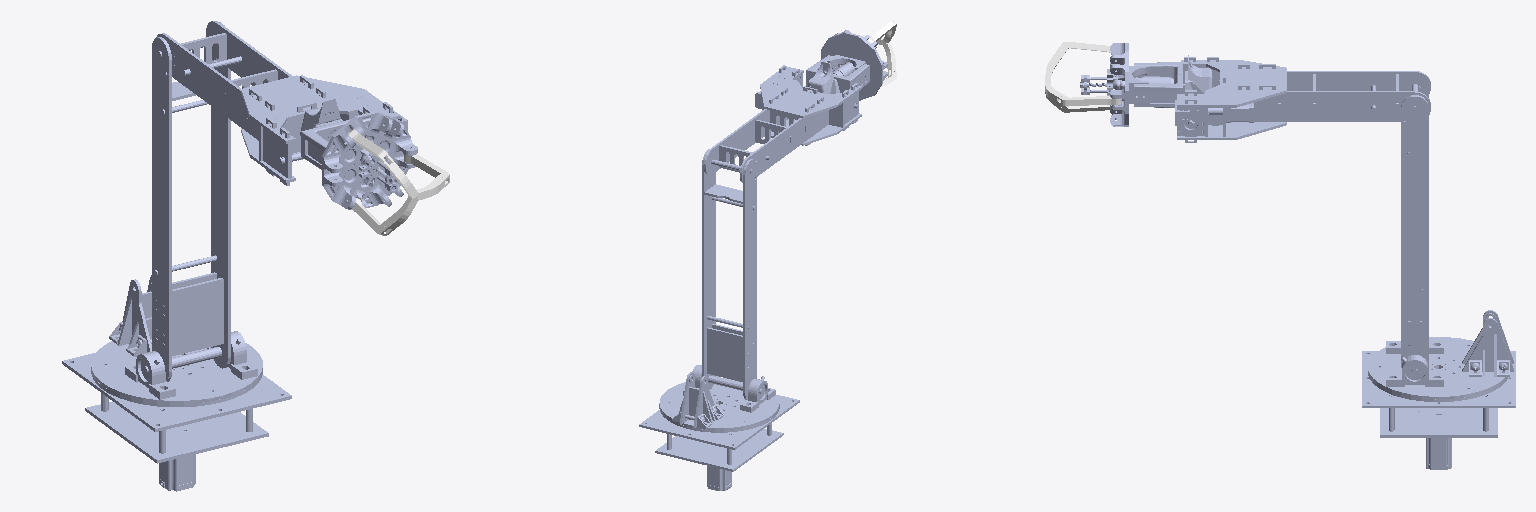
The robot description file, URDF, robot "arm_assembly":
<?xml version="1.0" encoding="utf-8"?>
<!-- This URDF was automatically created by SolidWorks to URDF Exporter! Originally created by [author] ([email redacted]) 
     Commit Version: 1.6.0-1-g15f4949  Build Version: 1.6.7594.29634
     For more information, please see http://wiki.ros.org/sw_urdf_exporter -->
<robot
  name="arm_assembly">
  <link
    name="arm_link0">
    <inertial>
      <origin
        xyz="0.014023 -0.26919 0.41045"
        rpy="0 0 0" />
      <mass
        value="8.6759" />
      <inertia
        ixx="1.9156"
        ixy="0.023298"
        ixz="-0.042689"
        iyy="1.2477"
        iyz="0.84122"
        izz="0.71914" />
    </inertial>
    <visual>
      <origin
        xyz="0 0 0"
        rpy="0 0 0" />
      <geometry>
        <mesh
          filename="package://arm_assembly/meshes/arm_link0.STL" />
      </geometry>
      <material
        name="">
        <color
          rgba="0.79216 0.81961 0.93333 1" />
      </material>
    </visual>
    <collision>
      <origin
        xyz="0 0 0"
        rpy="0 0 0" />
      <geometry>
        <mesh
          filename="package://arm_assembly/meshes/arm_link0.STL" />
      </geometry>
    </collision>
  </link>
  <link
    name="arm_link1">
    <inertial>
      <origin
        xyz="0.014023 -0.26919 0.3139"
        rpy="0 0 0" />
      <mass
        value="8.6759" />
      <inertia
        ixx="1.9156"
        ixy="0.023298"
        ixz="-0.042689"
        iyy="1.2477"
        iyz="0.84122"
        izz="0.71914" />
    </inertial>
    <visual>
      <origin
        xyz="0 0 0"
        rpy="0 0 0" />
      <geometry>
        <mesh
          filename="package://arm_assembly/meshes/arm_link1.STL" />
      </geometry>
      <material
        name="">
        <color
          rgba="0.79216 0.81961 0.93333 1" />
      </material>
    </visual>
    <collision>
      <origin
        xyz="0 0 0"
        rpy="0 0 0" />
      <geometry>
        <mesh
          filename="package://arm_assembly/meshes/arm_link1.STL" />
      </geometry>
    </collision>
  </link>
  <joint
    name="arm_link1_joint"
    type="revolute">
    <origin
      xyz="0 0 0.09655"
      rpy="0 0 0" />
    <parent
      link="arm_link0" />
    <child
      link="arm_link1" />
    <axis
      xyz="0 0 1" />
    <limit
      lower="0"
      upper="0"
      effort="0"
      velocity="0" />
  </joint>
  <link
    name="arm_link2">
    <inertial>
      <origin
        xyz="0.014019 -0.21814 0.2687"
        rpy="0 0 0" />
      <mass
        value="8.6759" />
      <inertia
        ixx="1.9156"
        ixy="0.023298"
        ixz="-0.042689"
        iyy="1.2477"
        iyz="0.84122"
        izz="0.71914" />
    </inertial>
    <visual>
      <origin
        xyz="0 0 0"
        rpy="0 0 0" />
      <geometry>
        <mesh
          filename="package://arm_assembly/meshes/arm_link2.STL" />
      </geometry>
      <material
        name="">
        <color
          rgba="0.79216 0.81961 0.93333 1" />
      </material>
    </visual>
    <collision>
      <origin
        xyz="0 0 0"
        rpy="0 0 0" />
      <geometry>
        <mesh
          filename="package://arm_assembly/meshes/arm_link2.STL" />
      </geometry>
    </collision>
  </link>
  <joint
    name="arm_link2_joint"
    type="revolute">
    <origin
      xyz="0 -0.051052 0.0452"
      rpy="0 0 0" />
    <parent
      link="arm_link1" />
    <child
      link="arm_link2" />
    <axis
      xyz="1 0 0" />
    <limit
      lower="0"
      upper="0"
      effort="0"
      velocity="0" />
  </joint>
  <link
    name="arm_link3">
    <inertial>
      <origin
        xyz="0.014019 -0.21814 -0.3409"
        rpy="0 0 0" />
      <mass
        value="8.6759" />
      <inertia
        ixx="1.9156"
        ixy="0.023298"
        ixz="-0.042689"
        iyy="1.2477"
        iyz="0.84122"
        izz="0.71914" />
    </inertial>
    <visual>
      <origin
        xyz="0 0 0"
        rpy="0 0 0" />
      <geometry>
        <mesh
          filename="package://arm_assembly/meshes/arm_link3.STL" />
      </geometry>
      <material
        name="">
        <color
          rgba="0.79216 0.81961 0.93333 1" />
      </material>
    </visual>
    <collision>
      <origin
        xyz="0 0 0"
        rpy="0 0 0" />
      <geometry>
        <mesh
          filename="package://arm_assembly/meshes/arm_link3.STL" />
      </geometry>
    </collision>
  </link>
  <joint
    name="arm_link3_joint"
    type="revolute">
    <origin
      xyz="0 0 0.6096"
      rpy="0 0 0" />
    <parent
      link="arm_link2" />
    <child
      link="arm_link3" />
    <axis
      xyz="-1 0 0" />
    <limit
      lower="0"
      upper="0"
      effort="0"
      velocity="0" />
  </joint>
  <link
    name="arm_link4">
    <inertial>
      <origin
        xyz="-0.066717 0.26409 -0.33487"
        rpy="0 0 0" />
      <mass
        value="8.6759" />
      <inertia
        ixx="1.9156"
        ixy="0.023298"
        ixz="-0.042689"
        iyy="1.2477"
        iyz="0.84122"
        izz="0.71914" />
    </inertial>
    <visual>
      <origin
        xyz="0 0 0"
        rpy="0 0 0" />
      <geometry>
        <mesh
          filename="package://arm_assembly/meshes/arm_link4.STL" />
      </geometry>
      <material
        name="">
        <color
          rgba="0.79216 0.81961 0.93333 1" />
      </material>
    </visual>
    <collision>
      <origin
        xyz="0 0 0"
        rpy="0 0 0" />
      <geometry>
        <mesh
          filename="package://arm_assembly/meshes/arm_link4.STL" />
      </geometry>
    </collision>
  </link>
  <joint
    name="arm_link4_joint"
    type="revolute">
    <origin
      xyz="0.080736 -0.48223 -0.00603"
      rpy="0 0 0" />
    <parent
      link="arm_link3" />
    <child
      link="arm_link4" />
    <axis
      xyz="1 0 0" />
    <limit
      lower="0"
      upper="0"
      effort="0"
      velocity="0" />
  </joint>
  <link
    name="arm_link5">
    <inertial>
      <origin
        xyz="0.014303 0.28637 -0.36813"
        rpy="0 0 0" />
      <mass
        value="8.6759" />
      <inertia
        ixx="1.9156"
        ixy="0.023298"
        ixz="-0.042689"
        iyy="1.2477"
        iyz="0.84122"
        izz="0.71914" />
    </inertial>
    <visual>
      <origin
        xyz="0 0 0"
        rpy="0 0 0" />
      <geometry>
        <mesh
          filename="package://arm_assembly/meshes/arm_link5.STL" />
      </geometry>
      <material
        name="">
        <color
          rgba="0.79216 0.81961 0.93333 1" />
      </material>
    </visual>
    <collision>
      <origin
        xyz="0 0 0"
        rpy="0 0 0" />
      <geometry>
        <mesh
          filename="package://arm_assembly/meshes/arm_link5.STL" />
      </geometry>
    </collision>
  </link>
  <joint
    name="arm_link5_joint"
    type="revolute">
    <origin
      xyz="-0.08102 -0.02228 0.03326"
      rpy="0 0 0" />
    <parent
      link="arm_link4" />
    <child
      link="arm_link5" />
    <axis
      xyz="0 -1 0" />
    <limit
      lower="0"
      upper="0"
      effort="0"
      velocity="0" />
  </joint>
  <link
    name="gripper_finger1">
    <inertial>
      <origin
        xyz="-0.011165 -0.085231 3.153E-14"
        rpy="0 0 0" />
      <mass
        value="0.020758" />
      <inertia
        ixx="5.6257E-05"
        ixy="-1.6742E-05"
        ixz="6.5594E-20"
        iyy="1.1909E-05"
        iyz="1.3762E-19"
        izz="6.7392E-05" />
    </inertial>
    <visual>
      <origin
        xyz="0 0 0"
        rpy="0 0 0" />
      <geometry>
        <mesh
          filename="package://arm_assembly/meshes/gripper_finger1.STL" />
      </geometry>
      <material
        name="">
        <color
          rgba="1 1 1 1" />
      </material>
    </visual>
    <collision>
      <origin
        xyz="0 0 0"
        rpy="0 0 0" />
      <geometry>
        <mesh
          filename="package://arm_assembly/meshes/gripper_finger1.STL" />
      </geometry>
    </collision>
  </link>
  <joint
    name="gripper_finger1_joint"
    type="revolute">
    <origin
      xyz="0.0762 -0.13859 0"
      rpy="0 0 0" />
    <parent
      link="arm_link5" />
    <child
      link="gripper_finger1" />
    <axis
      xyz="0 0 -1" />
    <limit
      lower="0"
      upper="0"
      effort="0"
      velocity="0" />
  </joint>
  <link
    name="gripper_finger2">
    <inertial>
      <origin
        xyz="-0.011165 -0.085231 3.0531E-16"
        rpy="0 0 0" />
      <mass
        value="0.020758" />
      <inertia
        ixx="5.6257E-05"
        ixy="-1.6742E-05"
        ixz="-3.3881E-21"
        iyy="1.1909E-05"
        iyz="1.0554E-20"
        izz="6.7392E-05" />
    </inertial>
    <visual>
      <origin
        xyz="0 0 0"
        rpy="0 0 0" />
      <geometry>
        <mesh
          filename="package://arm_assembly/meshes/gripper_finger2.STL" />
      </geometry>
      <material
        name="">
        <color
          rgba="1 1 1 1" />
      </material>
    </visual>
    <collision>
      <origin
        xyz="0 0 0"
        rpy="0 0 0" />
      <geometry>
        <mesh
          filename="package://arm_assembly/meshes/gripper_finger2.STL" />
      </geometry>
    </collision>
  </link>
  <joint
    name="gripper_finger2_joint"
    type="revolute">
    <origin
      xyz="-0.0381 -0.13859 0.065991"
      rpy="-3.1416 -1.0472 3.1416" />
    <parent
      link="arm_link5" />
    <child
      link="gripper_finger2" />
    <axis
      xyz="0 0 -1" />
    <limit
      lower="0"
      upper="0"
      effort="0"
      velocity="0" />
  </joint>
  <link
    name="gripper_finger3">
    <inertial>
      <origin
        xyz="-0.011165 -0.085231 5.5511E-16"
        rpy="0 0 0" />
      <mass
        value="0.020758" />
      <inertia
        ixx="5.6257E-05"
        ixy="-1.6742E-05"
        ixz="3.3881E-21"
        iyy="1.1909E-05"
        iyz="-4.4222E-21"
        izz="6.7392E-05" />
    </inertial>
    <visual>
      <origin
        xyz="0 0 0"
        rpy="0 0 0" />
      <geometry>
        <mesh
          filename="package://arm_assembly/meshes/gripper_finger3.STL" />
      </geometry>
      <material
        name="">
        <color
          rgba="1 1 1 1" />
      </material>
    </visual>
    <collision>
      <origin
        xyz="0 0 0"
        rpy="0 0 0" />
      <geometry>
        <mesh
          filename="package://arm_assembly/meshes/gripper_finger3.STL" />
      </geometry>
    </collision>
  </link>
  <joint
    name="gripper_finger3_joint"
    type="revolute">
    <origin
      xyz="-0.0381 -0.13859 -0.065991"
      rpy="-3.1416 1.0472 -3.1416" />
    <parent
      link="arm_link5" />
    <child
      link="gripper_finger3" />
    <axis
      xyz="0 0 -1" />
    <limit
      lower="0"
      upper="0"
      effort="0"
      velocity="0" />
  </joint>
</robot>

--- Render facts (derived) ---
The picture shows the robot from 3 angles, left to right: view 1: azimuth 30°, elevation 25°; view 2: azimuth 150°, elevation 25°; view 3: azimuth 270°, elevation 25°; orthographic projection.
Robot: arm_assembly — 9 links, 8 joints (8 revolute); root link arm_link0; default pose: every joint at zero.
Visible links, largest first — view 1: arm_link2, arm_link3, arm_link1, arm_link0, arm_link5, gripper_finger3, gripper_finger2, arm_link4, gripper_finger1; view 2: arm_link2, arm_link3, arm_link1, arm_link0, arm_link5, arm_link4; view 3: arm_link3, arm_link1, arm_link2, arm_link0, arm_link5, gripper_finger1, arm_link4, gripper_finger2.
Boxes of the visible links, x1=… form: arm_link2: x1=152, y1=22, x2=230, y2=381; arm_link3: x1=156, y1=21, x2=407, y2=185; arm_link1: x1=91, y1=275, x2=262, y2=406; arm_link0: x1=62, y1=353, x2=291, y2=491; arm_link5: x1=301, y1=111, x2=417, y2=211; gripper_finger3: x1=351, y1=196, x2=417, y2=235; gripper_finger2: x1=348, y1=129, x2=417, y2=197; arm_link4: x1=278, y1=99, x2=342, y2=164; gripper_finger1: x1=404, y1=154, x2=449, y2=200; arm_link2: x1=702, y1=149, x2=756, y2=399; arm_link3: x1=704, y1=65, x2=861, y2=182; arm_link1: x1=659, y1=365, x2=779, y2=432; arm_link0: x1=639, y1=395, x2=799, y2=490; arm_link5: x1=806, y1=30, x2=887, y2=100; arm_link4: x1=808, y1=61, x2=858, y2=108; arm_link3: x1=1175, y1=57, x2=1430, y2=142; arm_link1: x1=1368, y1=310, x2=1513, y2=401; arm_link2: x1=1401, y1=84, x2=1428, y2=367; arm_link0: x1=1362, y1=351, x2=1515, y2=469; arm_link5: x1=1080, y1=43, x2=1182, y2=126; gripper_finger1: x1=1045, y1=83, x2=1121, y2=105; arm_link4: x1=1183, y1=55, x2=1212, y2=126; gripper_finger2: x1=1045, y1=42, x2=1110, y2=82.
Size in the robot's own frame: 0.3048 by 1.01 by 0.9929 metres.
Meshes: 9 distinct files referenced, 9 mesh visuals loaded (9 binary STL).